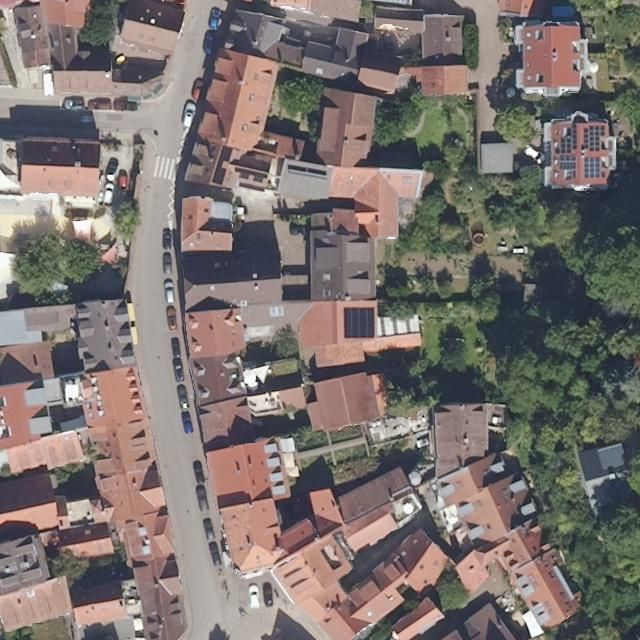PV: (342, 306, 376, 339), (554, 123, 577, 155), (583, 124, 606, 152), (584, 155, 606, 181), (558, 154, 577, 180)
